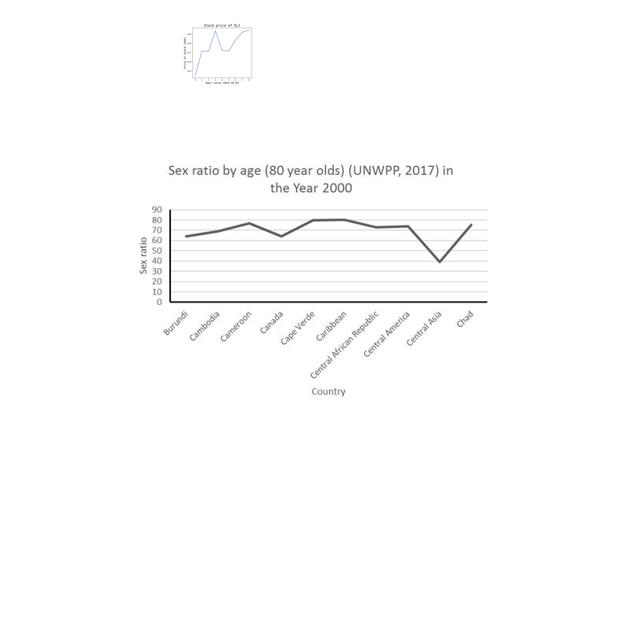Graph: (127, 159, 492, 399), (178, 20, 264, 85)
